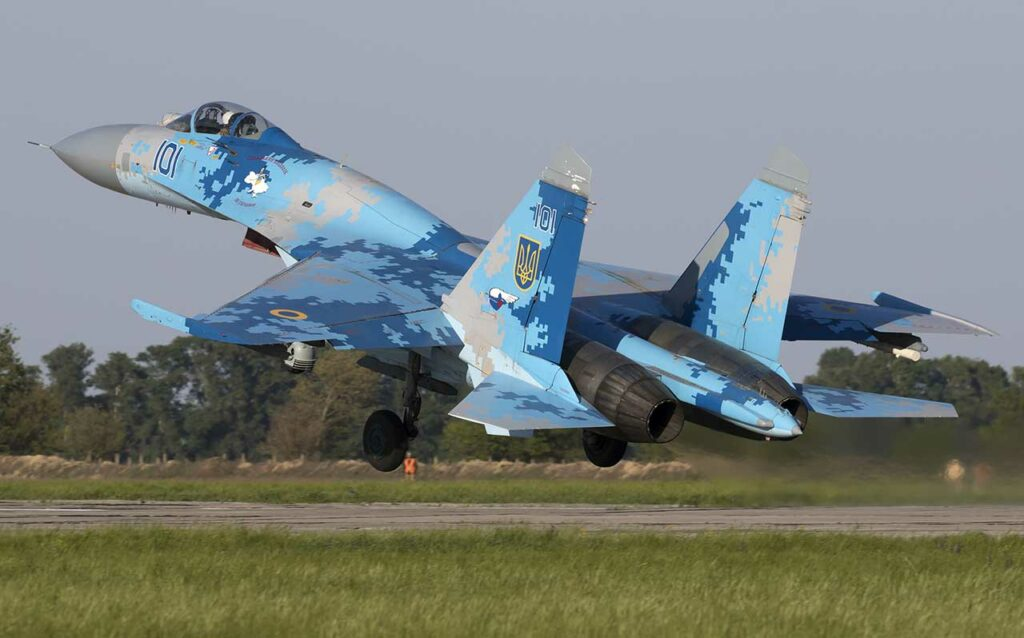Su35: (22, 95, 1000, 473)
